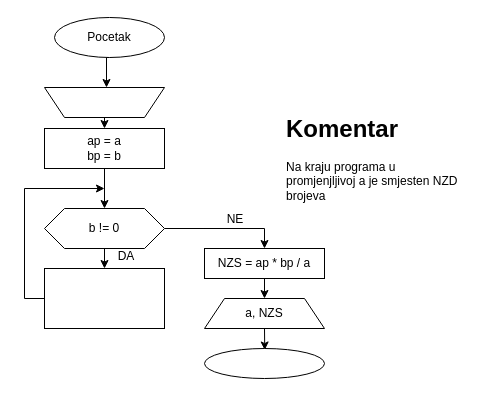
Some shapes in this 482 by 396 pixel diagram are drawn without their labels. Here are the shapes that lost their labels. From the top down, the centre of each, then its label:
At pixel 104 102: "a, b".
At pixel 104 298: "t = a a = b b = t mod b".
At pixel 264 363: "KRAJ".
